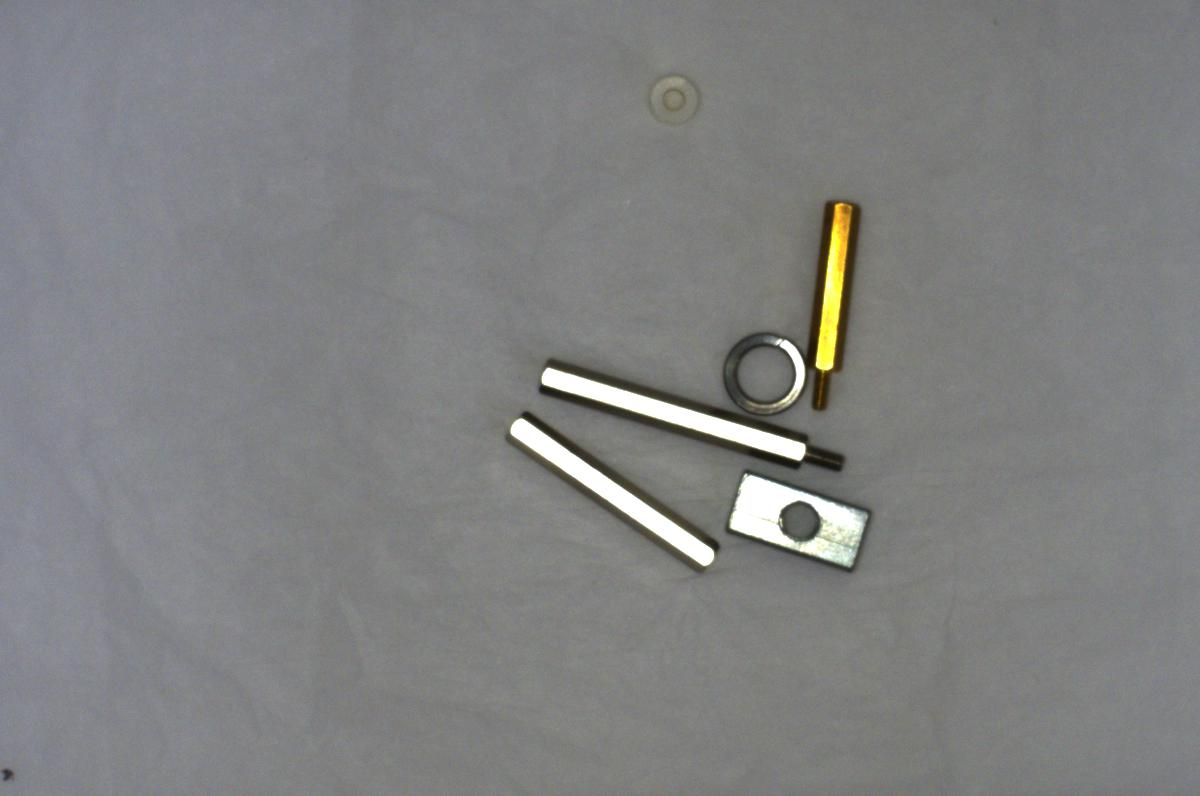Double hexagonal column: (497, 403, 717, 577)
Hexagon pillar: (805, 187, 858, 413)
Hexagonal steel column: (528, 358, 857, 477)
Plastic cushion pillar: (646, 63, 708, 124)
Rectangular nut: (720, 469, 883, 569)
Spring washer: (714, 327, 812, 421)
